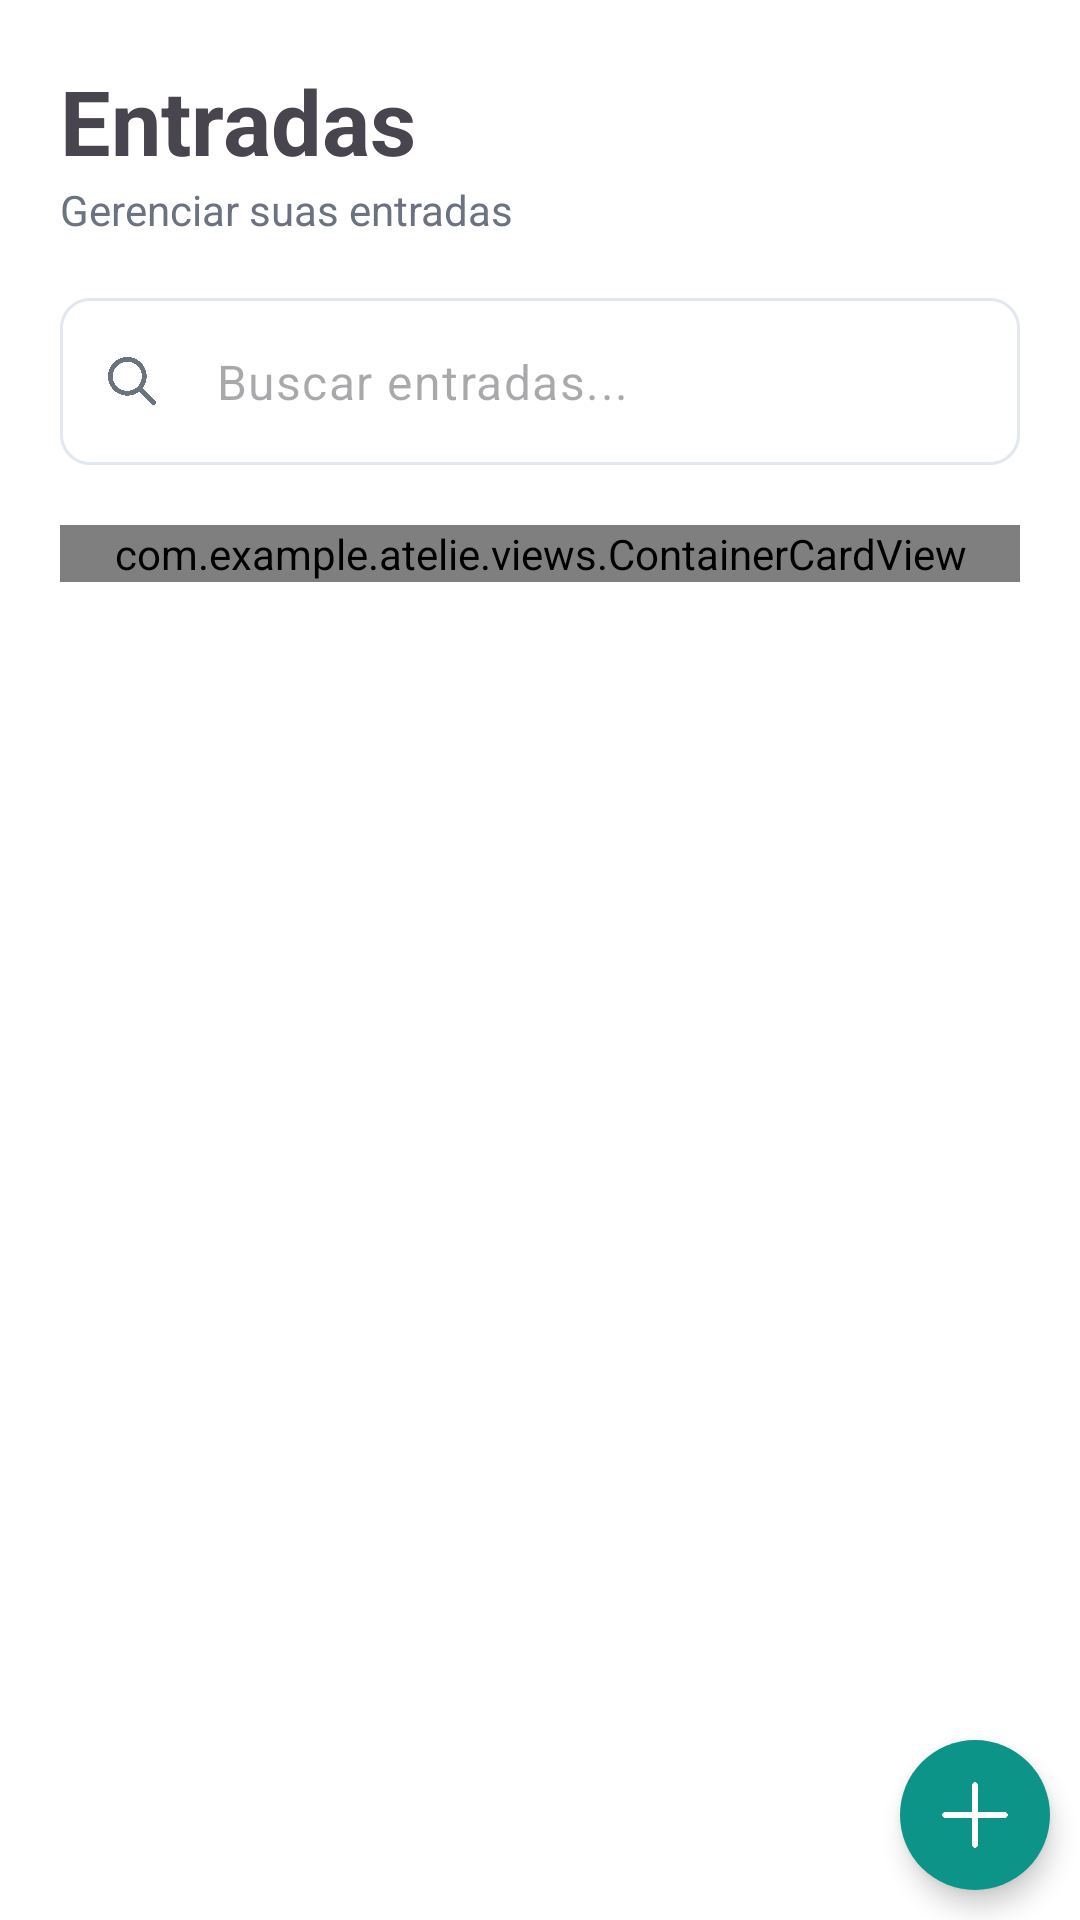

Screen size 1080x1920. Icon name, then its box in pixels as detection(x1, y1, x2, y2):
plus: detection(900, 1740, 1050, 1890)
